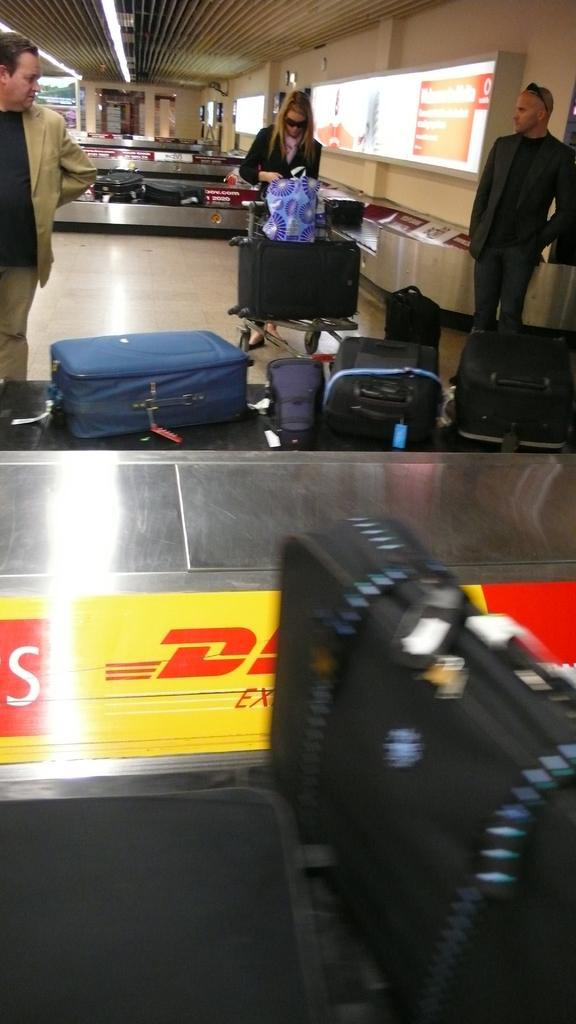Luggage-and-bags: (276, 509, 575, 1023), (44, 326, 248, 440), (442, 297, 575, 452), (324, 335, 446, 447), (226, 230, 360, 319), (266, 355, 327, 433), (380, 283, 446, 348), (143, 180, 206, 207), (94, 170, 145, 202), (323, 198, 367, 231)
